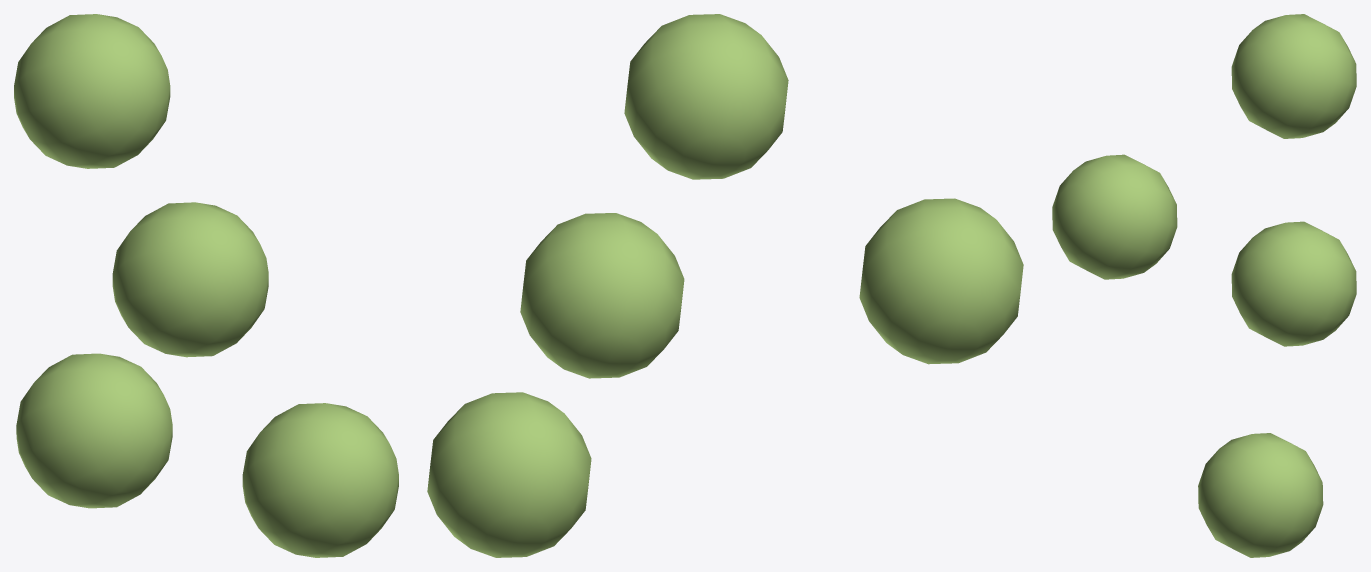
File: supraclavicular-nodes-l.glb
3 views of the same model, side by side, from view 1: azimuth 30°, elevation 25°; view 2: azimuth 150°, elevation 25°; view 3: azimuth 270°, elevation 25° (orthographic). The views are drawn at different scales.
Visible parts, largest first — view 1: Supraclavicular nodes.l; view 2: Supraclavicular nodes.l; view 3: Supraclavicular nodes.l.
Boxes of the visible parts, left/top/right/bottom form: Supraclavicular nodes.l: left=14, top=14, right=398, bottom=557; Supraclavicular nodes.l: left=427, top=14, right=1023, bottom=557; Supraclavicular nodes.l: left=1052, top=14, right=1356, bottom=557.
Bounding box in the file's own units: 0.00855 × 0.0102 × 0.00624.
